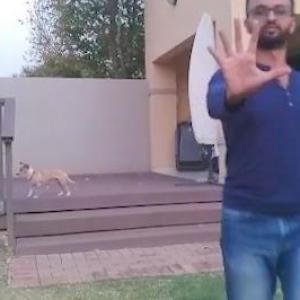follow_hand: (201, 12, 292, 100)
